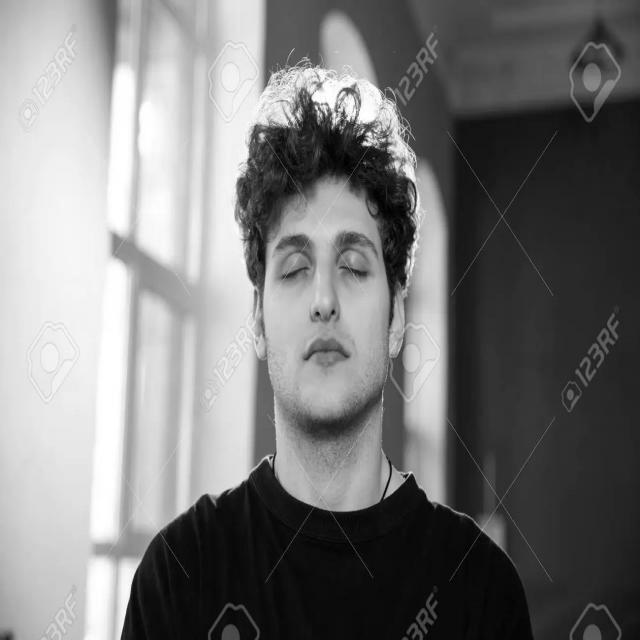real: (247, 147, 413, 435), (262, 228, 387, 298)
